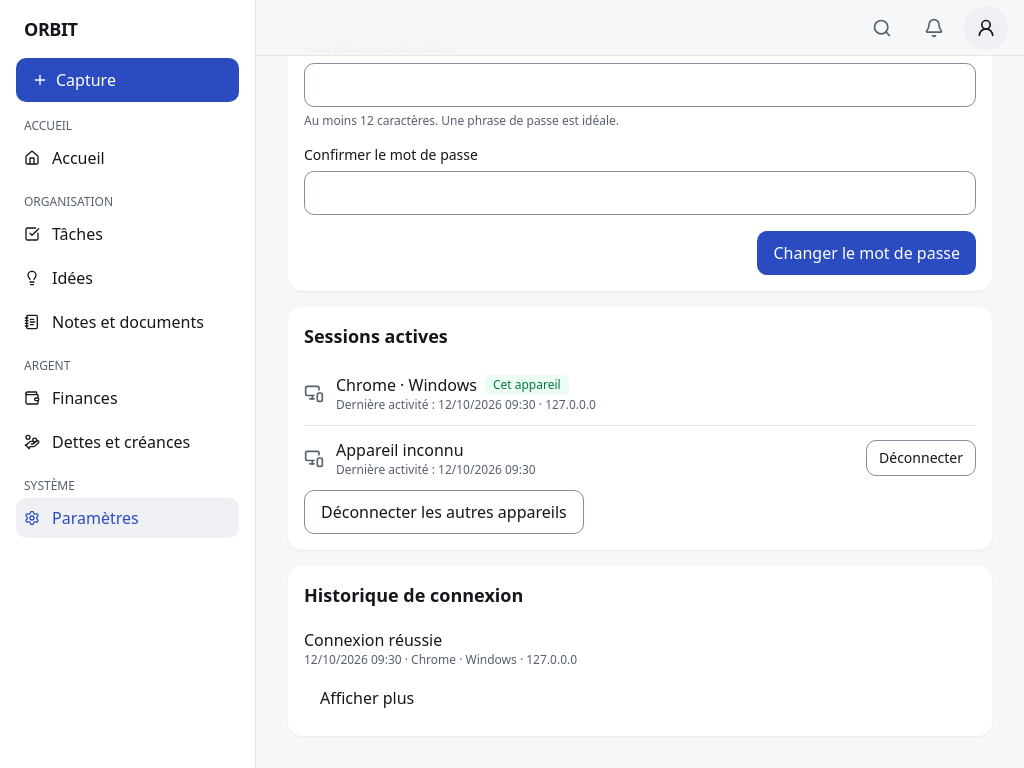
Test case: security › lists sessions, revokes one and the others, and pages the login history
(page scrolled)
Expected: the text "Cet appareil" is shown, [485, 375, 569, 395]
Click the button with aria-label "Déconnecter la session Appareil inconnu" at (921, 458), box [866, 440, 976, 476]
(page scrolled)
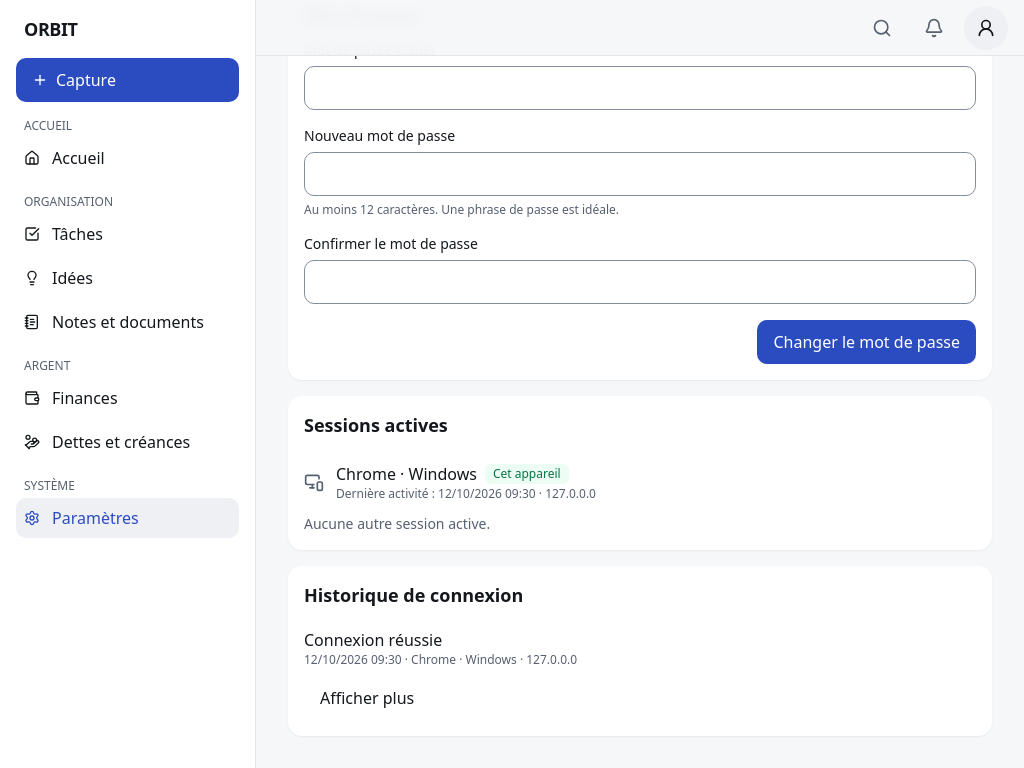
Expected: the text "Connexion réussie" is shown, [304, 629, 442, 651]
Expected: the text "Aucune autre session active." is shown, [304, 514, 490, 533]
Click the button "Afficher plus" at (367, 698), box [304, 676, 430, 720]
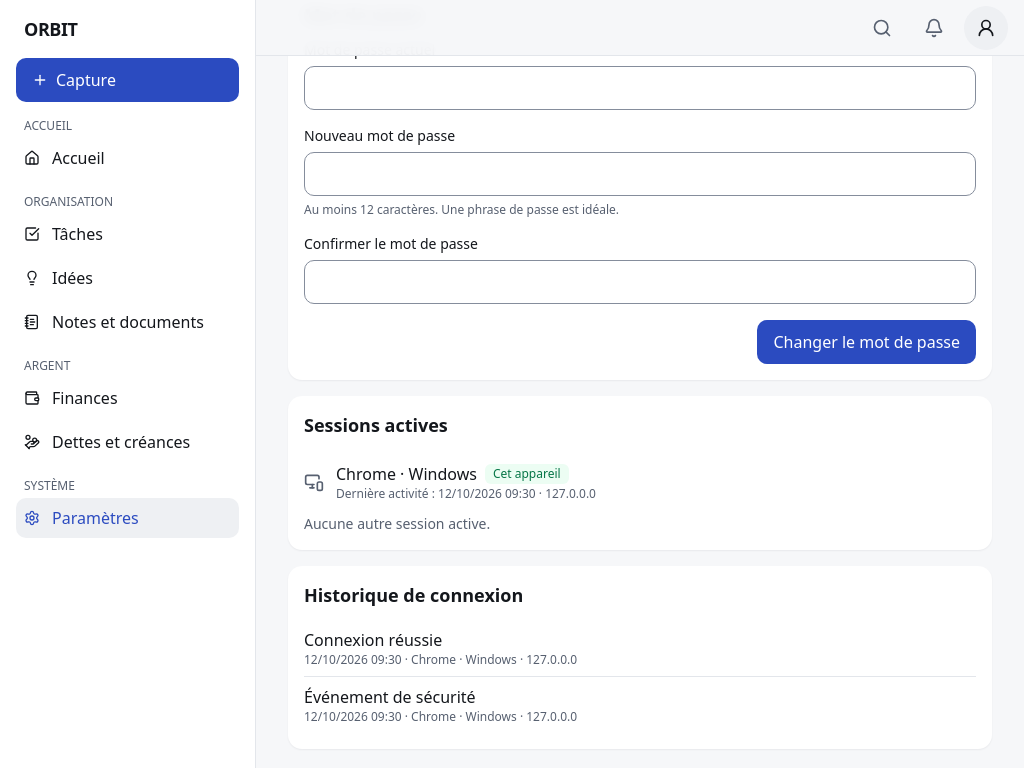
Expected: the text "Événement de sécurité" is shown, [304, 686, 476, 708]
